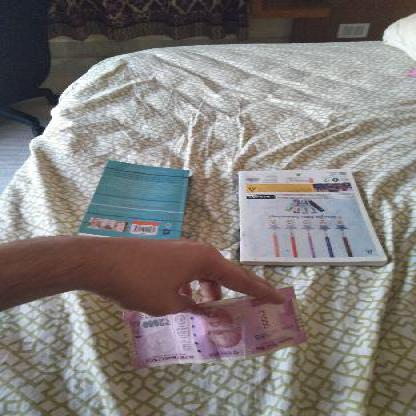New2000Front: (127, 288, 296, 367)
